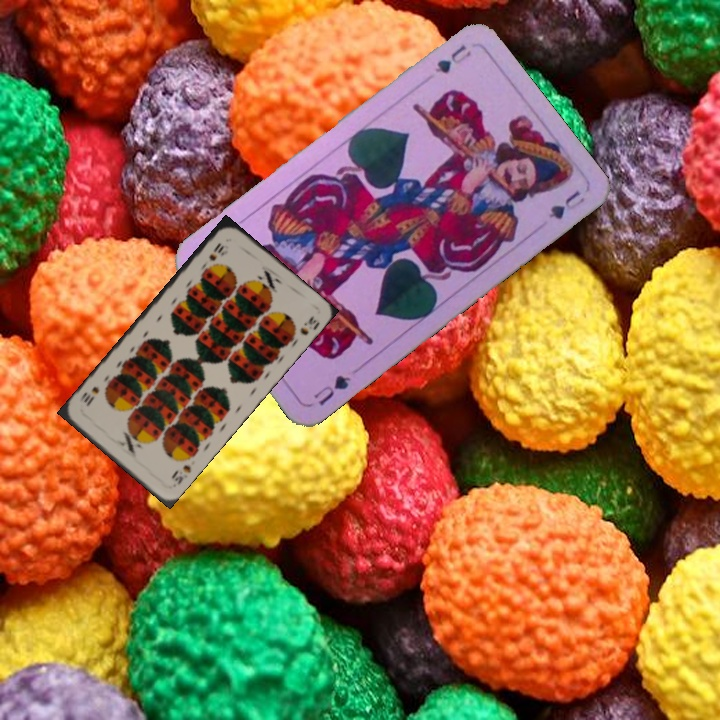GU: (309, 370, 354, 409), (430, 40, 474, 77)
S10: (167, 460, 194, 487), (205, 239, 227, 264)
